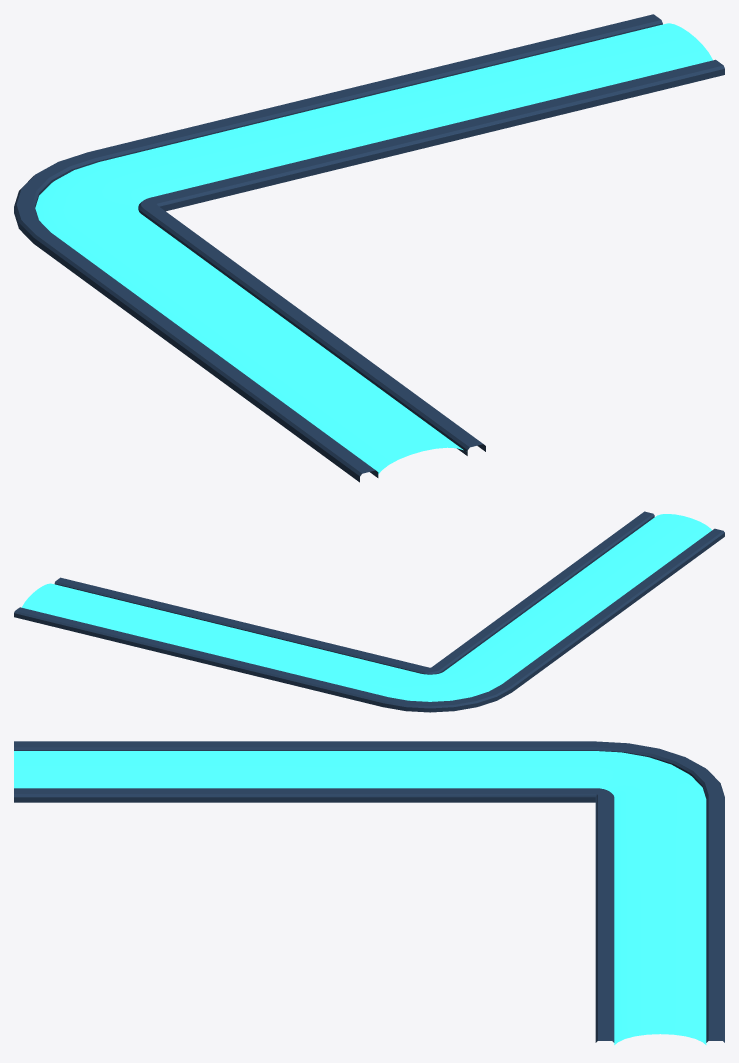
File: Light_Trim_01_RoundCorner.fbx
3 renders of one model, top to bottom at view 1: azimuth 30°, elevation 25°; view 2: azimuth 150°, elevation 25°; view 3: azimuth 270°, elevation 25°, orthographic. The views are drawn at different scales.
Visible parts, largest first — view 1: Light_Trim_01_RoundCorner.001; view 2: Light_Trim_01_RoundCorner.001; view 3: Light_Trim_01_RoundCorner.001.
Part boxes in pixels (box(x1,y1,x2,y2)): Light_Trim_01_RoundCorner.001: box(14, 14, 724, 482); Light_Trim_01_RoundCorner.001: box(14, 511, 724, 712); Light_Trim_01_RoundCorner.001: box(14, 741, 724, 1044).
Size of the model in its own units: 0.55 by 0.0123 by 0.55.
